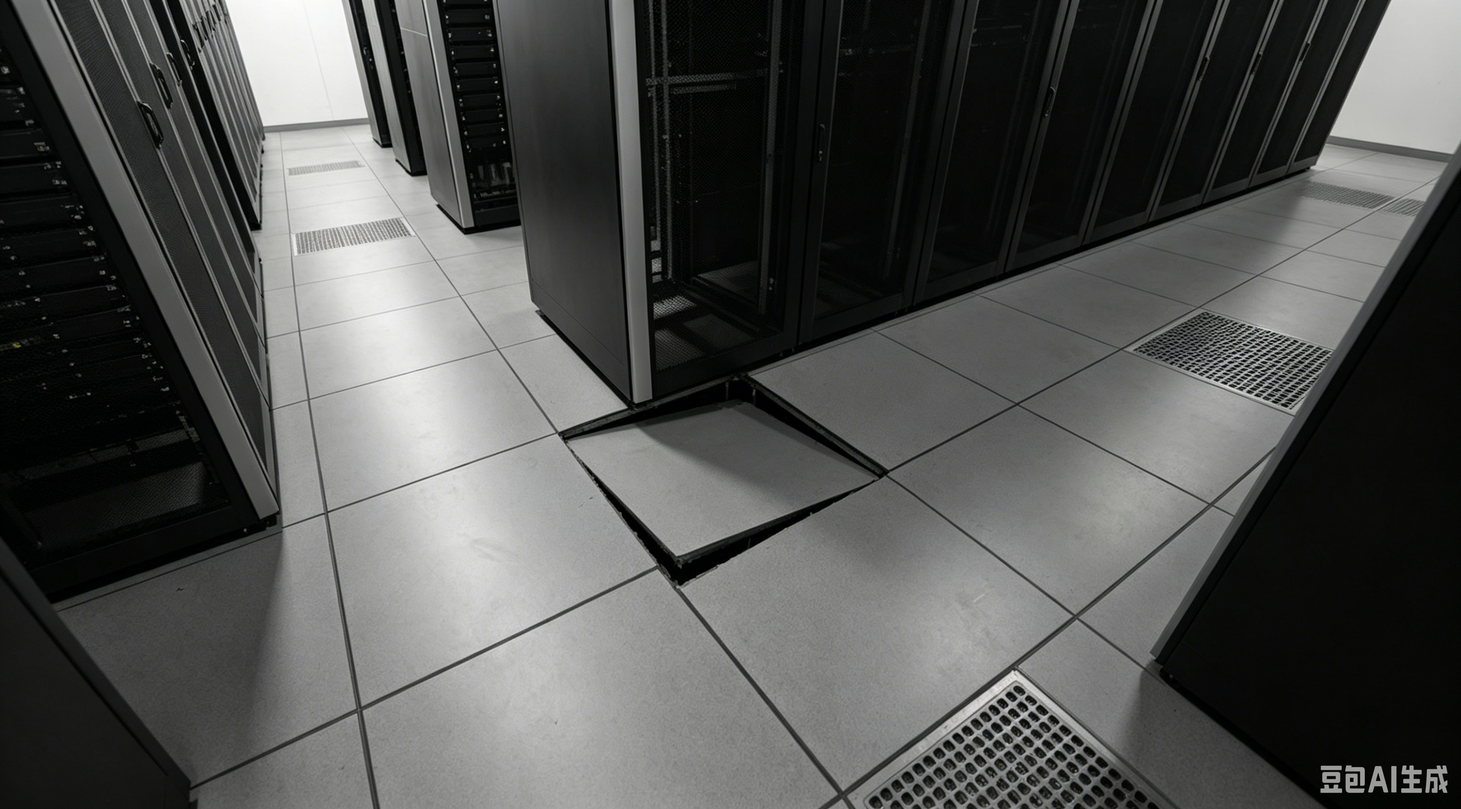floor_defect: (541, 371, 895, 586)
